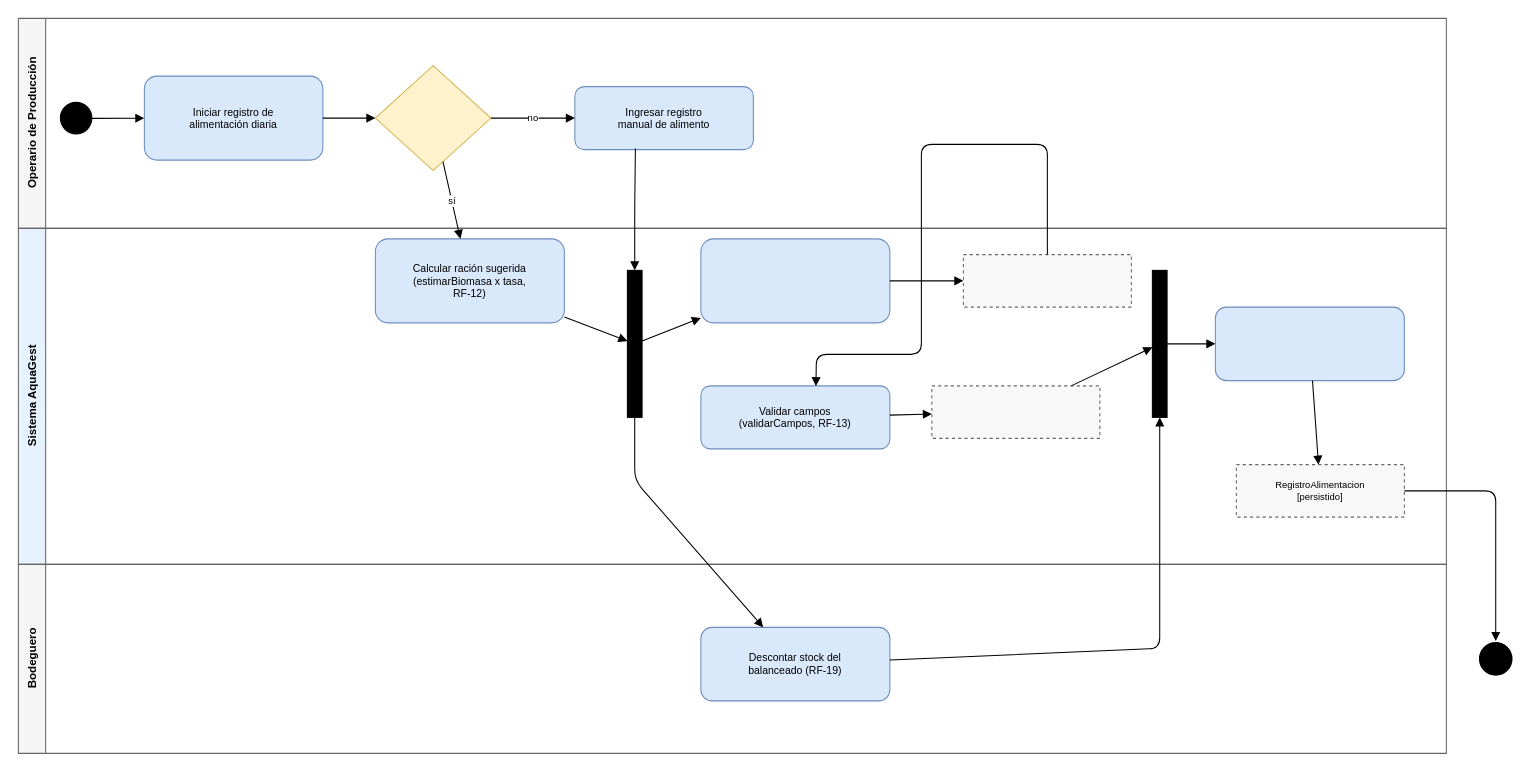
This 1533x772 diagram has some shape labels left out. The centre of each missing label's shape, as x and y in pixels:
"Persistir y confirmar registro" belongs at (1309,343).
"Registrar consumo (RegistroAlimentacion) RF-13" belongs at (795,280).
"RegistroAlimentacion [propuesto]" belongs at (1046,280).
"RegistroAlimentacion [validado]" belongs at (1015,411).
"¿existe grameo previo?" belongs at (432,118).
